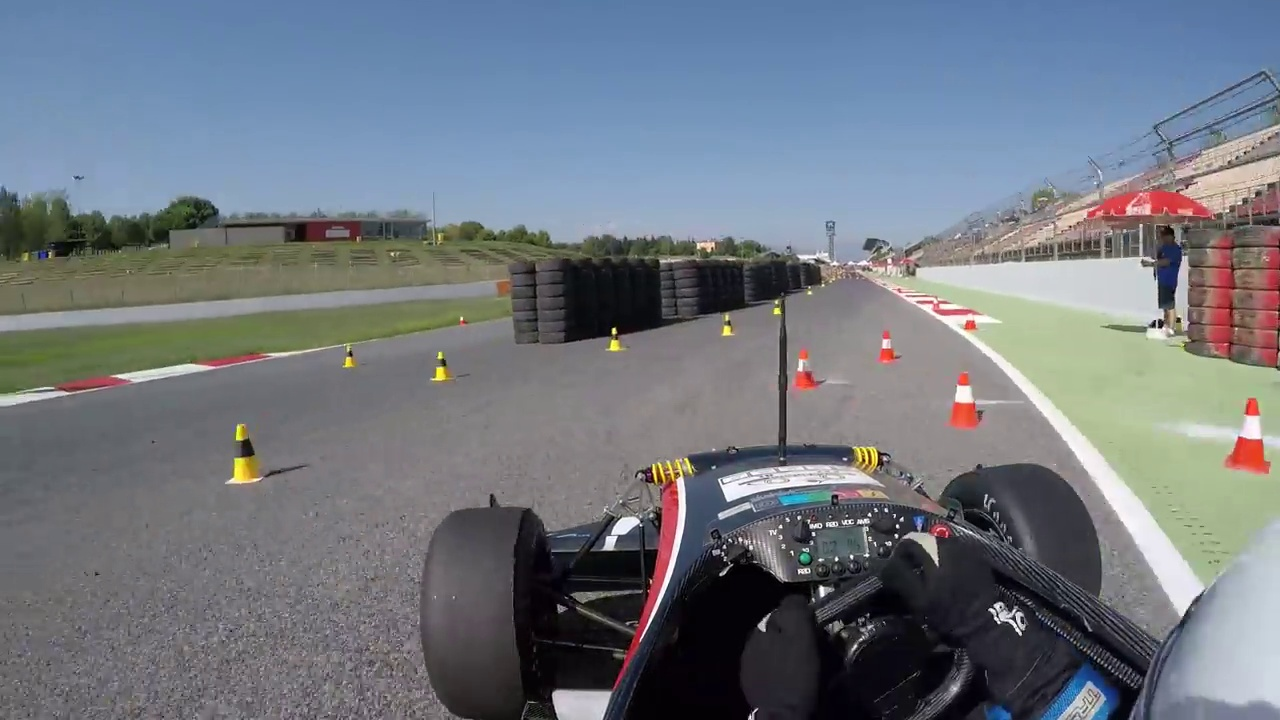Cone: (1226, 397, 1271, 472), (227, 423, 266, 485), (944, 368, 980, 429), (789, 348, 818, 390), (432, 350, 456, 382)
